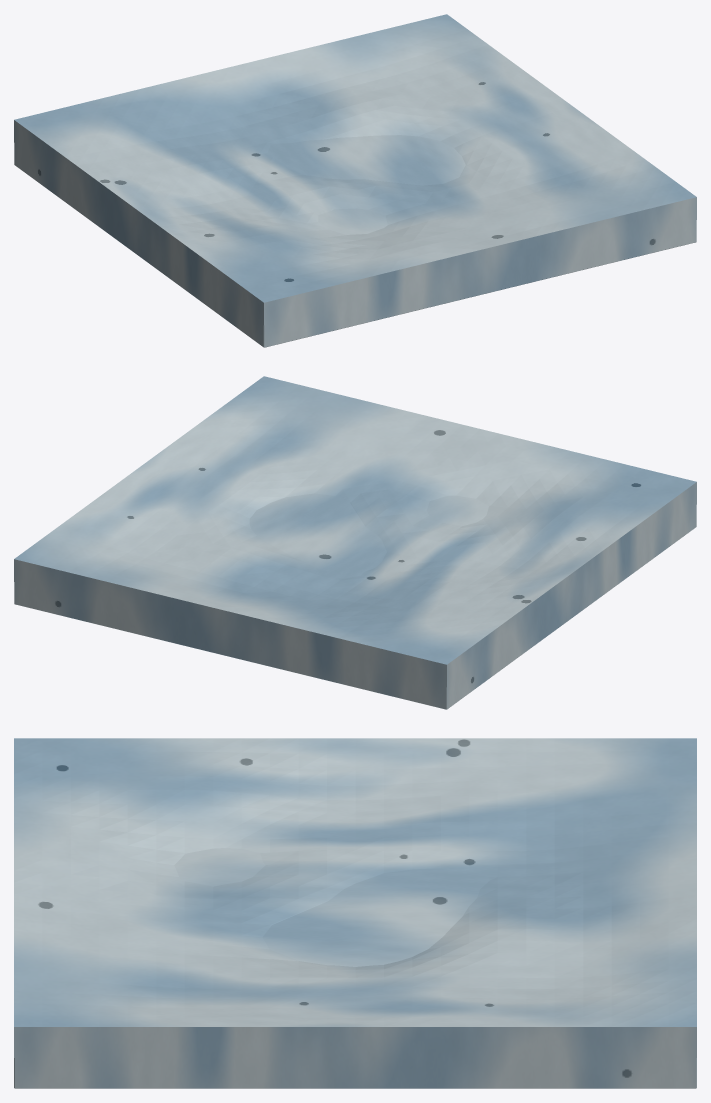
The model's file is floor_snow_b.glb.
3 views of the same model, one above another, from view 1: azimuth 30°, elevation 25°; view 2: azimuth 150°, elevation 25°; view 3: azimuth 270°, elevation 25° (orthographic). The views are drawn at different scales.
Visible parts, largest first — view 1: floor_snow_b; view 2: floor_snow_b; view 3: floor_snow_b.
Boxes of the visible parts, x1=… form: floor_snow_b: x1=14, y1=14, x2=696, y2=347; floor_snow_b: x1=14, y1=376, x2=696, y2=709; floor_snow_b: x1=14, y1=738, x2=696, y2=1088.
Bounding box in the file's own units: 1 × 0.1 × 1.
Materials: 1 (1 with a texture image).
